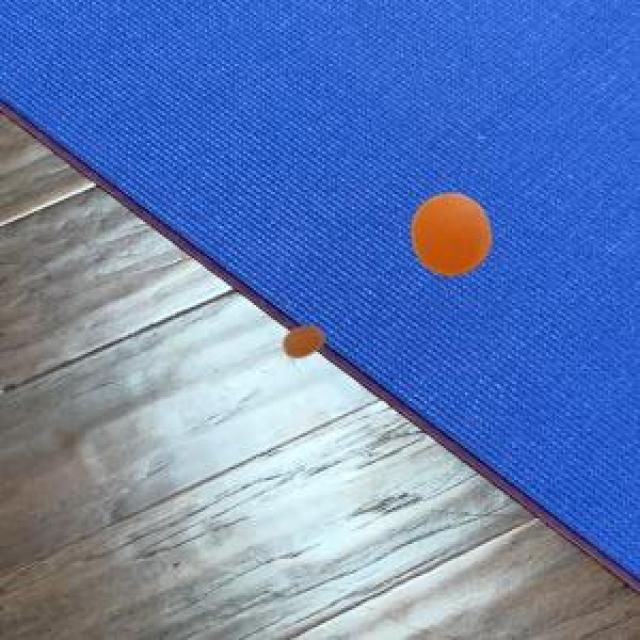Bactidol: (400, 174, 506, 287), (270, 316, 337, 366)
